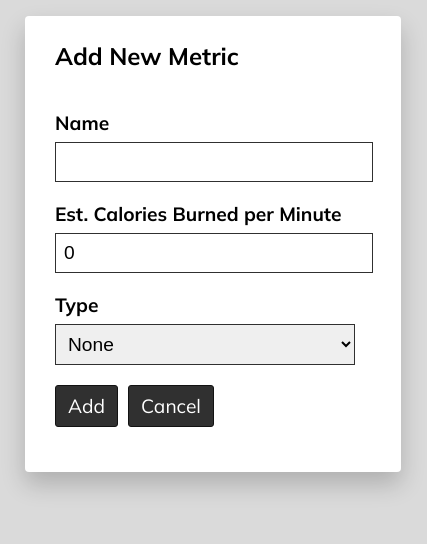
Test: <GearForm /> › it validates the form when add is clicked
The image size is (427, 544).
Click the button "Add": coordinates (86, 406) [55,385,118,427]
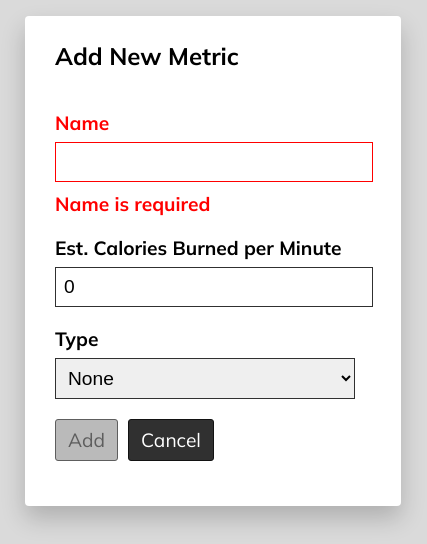
expect the text "Name is required" is shown: met, box [55,192,210,216]
expect the button "Add" is disabled: met, box [55,419,118,461]
